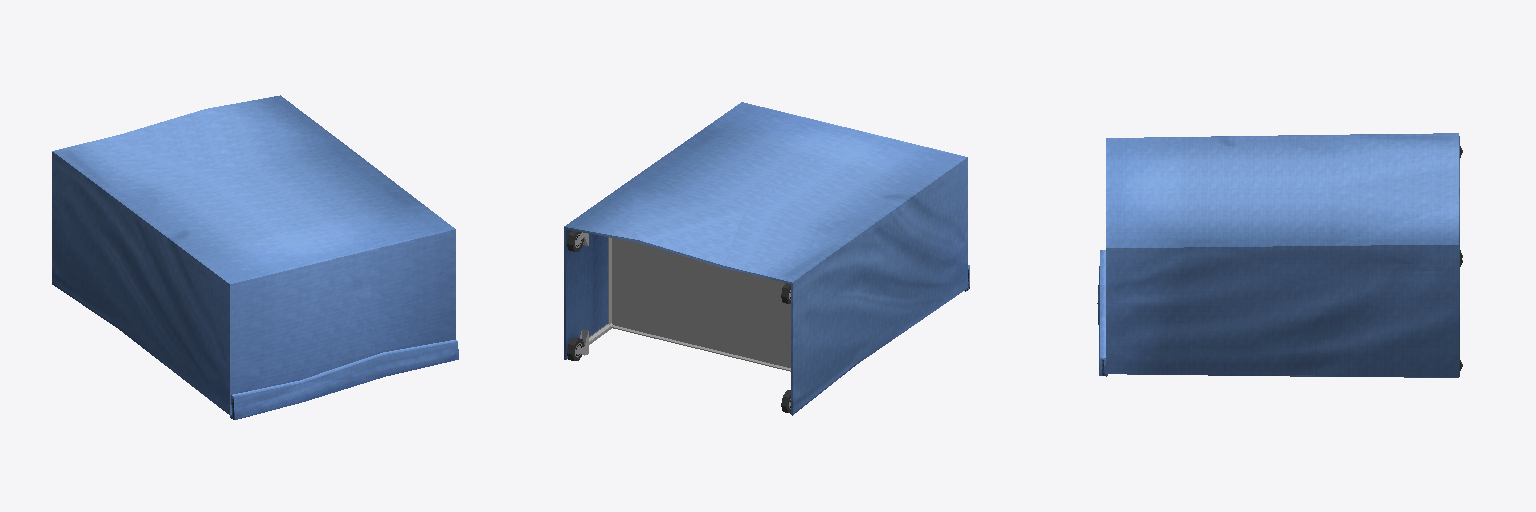
3 views of the same model, side by side, from view 1: azimuth 30°, elevation 25°; view 2: azimuth 150°, elevation 25°; view 3: azimuth 270°, elevation 25° (orthographic).
Parts seen in each view (by area): view 1: StorageRackCoverOpen_StorageRack.002; view 2: StorageRackCoverOpen_StorageRack.002; view 3: StorageRackCoverOpen_StorageRack.002.
Part boxes in pixels (x1,y1,x2,y2): StorageRackCoverOpen_StorageRack.002: (52, 95, 458, 419); StorageRackCoverOpen_StorageRack.002: (564, 102, 969, 415); StorageRackCoverOpen_StorageRack.002: (1097, 133, 1462, 377).
Size of the model in its own units: 1.3 by 0.7808 by 1.8.
Materials: 1 (1 with a texture image).